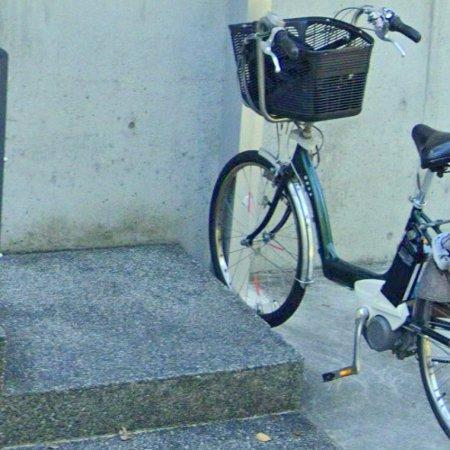bicycles: (210, 6, 450, 435)
